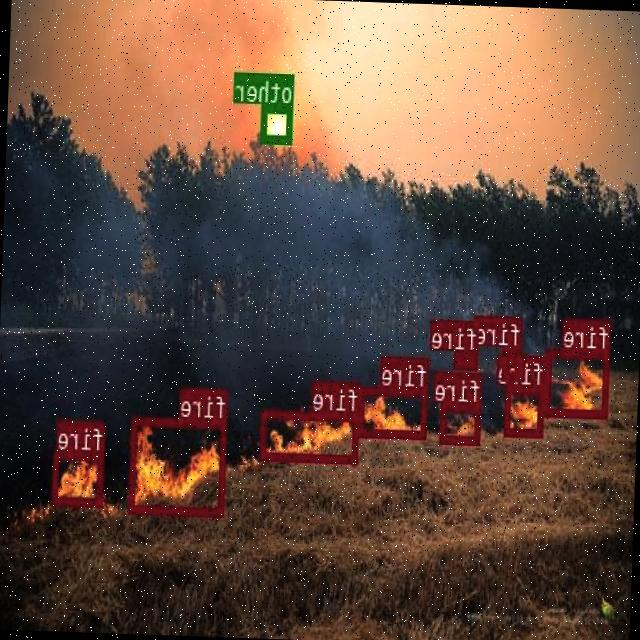fire: (130, 416, 228, 514), (260, 409, 360, 462), (546, 347, 611, 417), (358, 385, 429, 437), (53, 448, 105, 504), (505, 384, 545, 434), (441, 402, 482, 443), (502, 344, 522, 378), (454, 349, 478, 368)
